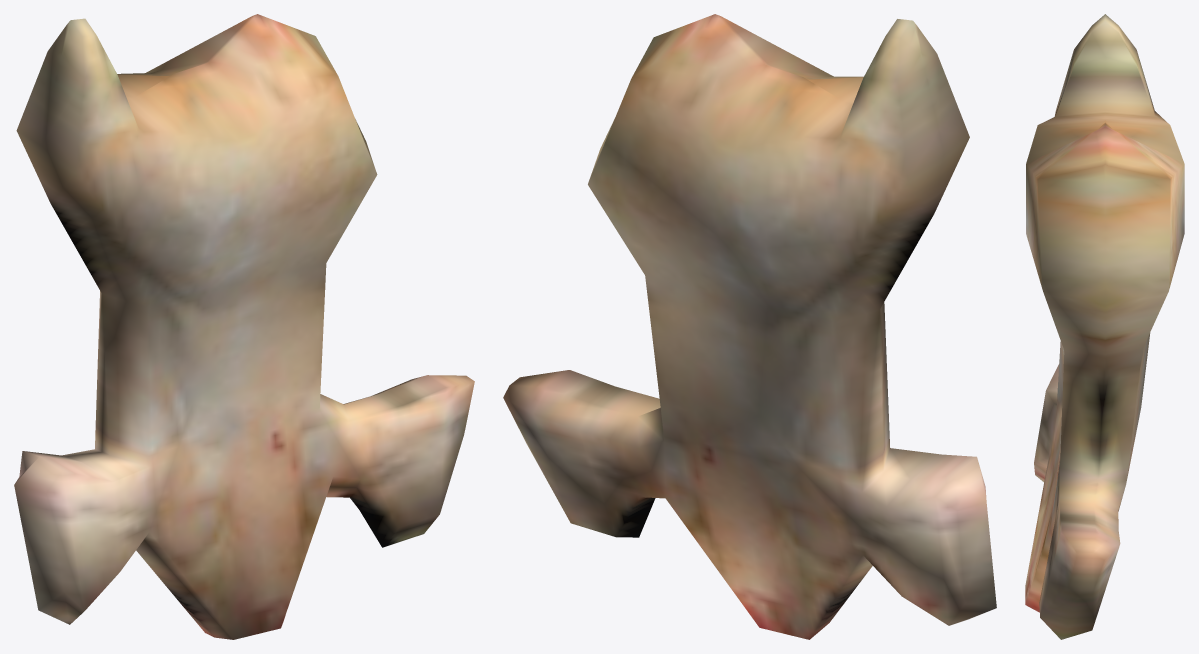
Rendered from dead_chicken_2.FBX.
3 views of the same model, side by side, from view 1: azimuth 30°, elevation 25°; view 2: azimuth 150°, elevation 25°; view 3: azimuth 270°, elevation 25° (orthographic). The views are drawn at different scales.
Parts seen in each view (by area): view 1: dead_chicken_2; view 2: dead_chicken_2; view 3: dead_chicken_2.
Boxes of the visible parts, x1,y1,x2,y2 form: dead_chicken_2: (14, 14, 474, 639); dead_chicken_2: (503, 14, 996, 639); dead_chicken_2: (1025, 14, 1184, 639).
Size of the model in its own units: 35.83 by 47.58 by 12.83.
